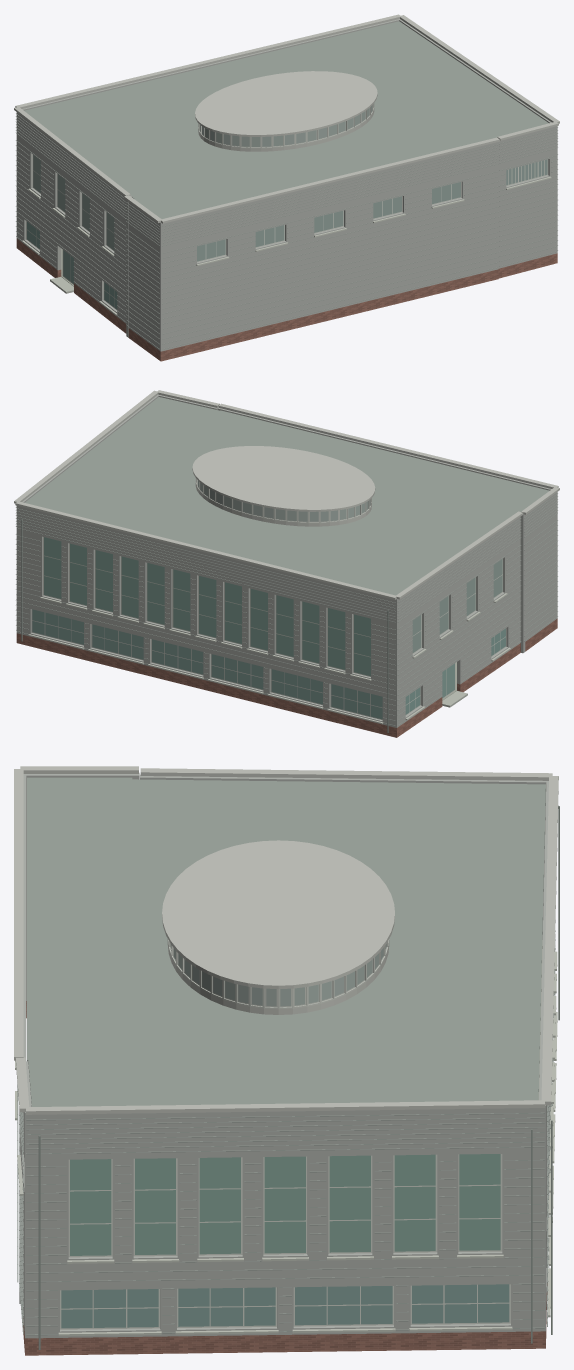
The picture shows the model from 3 angles, top to bottom: view 1: azimuth 30°, elevation 25°; view 2: azimuth 150°, elevation 25°; view 3: azimuth 270°, elevation 25°; orthographic projection. The views are drawn at different scales.
Parts seen in each view (by area): view 1: gym__greyPanelWall, gym__roof, gym__panelJoint, gym__roofCap, gym__brickBase, gym__rearGlass, gym__lanternGlass, gym__frame, gym__lanternFrame, gym__trim, gym__diningGlass; view 2: gym__greyPanelWall, gym__roof, gym__roofCap, gym__hallGlass, gym__panelJoint, gym__diningGlass, gym__brickBase, gym__frame, gym__trim, gym__lanternGlass, gym__rearGlass, gym__lanternFrame (+1 smaller); view 3: gym__roof, gym__greyPanelWall, gym__roofCap, gym__hallGlass, gym__diningGlass, gym__panelJoint, gym__brickBase, gym__frame, gym__trim, gym__lanternGlass, gym__lanternFrame, gym__pipe.
Boxes of the visible parts, box(x1,y1,x2,y2) form: gym__greyPanelWall: box(16, 19, 557, 351); gym__roof: box(24, 21, 548, 218); gym__panelJoint: box(16, 113, 557, 349); gym__roofCap: box(14, 14, 559, 223); gym__brickBase: box(16, 238, 557, 361); gym__rearGlass: box(33, 155, 547, 261); gym__lanternGlass: box(200, 105, 372, 146); gym__frame: box(26, 155, 548, 309); gym__lanternFrame: box(198, 103, 374, 148); gym__trim: box(21, 176, 551, 315); gym__diningGlass: box(27, 222, 117, 309); gym__greyPanelWall: box(16, 394, 557, 727); gym__roof: box(25, 397, 549, 595); gym__roofCap: box(14, 390, 559, 599); gym__hallGlass: box(44, 537, 370, 676); gym__panelJoint: box(16, 493, 557, 725); gym__diningGlass: box(32, 609, 505, 719); gym__brickBase: box(16, 618, 557, 737); gym__frame: box(31, 537, 506, 719); gym__trim: box(28, 593, 510, 723); gym__lanternGlass: box(198, 480, 370, 521); gym__rearGlass: box(412, 559, 502, 652); gym__lanternFrame: box(195, 478, 371, 523); gym__roof: box(27, 777, 545, 1106); gym__greyPanelWall: box(19, 772, 550, 1338); gym__roofCap: box(14, 766, 558, 1114); gym__hallGlass: box(70, 1154, 500, 1255); gym__diningGlass: box(61, 1284, 509, 1328); gym__panelJoint: box(17, 930, 555, 1335); gym__brickBase: box(23, 1001, 547, 1355); gym__frame: box(60, 1154, 510, 1329); gym__trim: box(15, 951, 557, 1336); gym__lanternGlass: box(170, 944, 386, 1006); gym__lanternFrame: box(168, 939, 389, 1009); gym__pipe: box(38, 806, 559, 1349).
Size of the model in its own units: 36.88 by 13.59 by 24.64.
16 materials, 1 textured.
